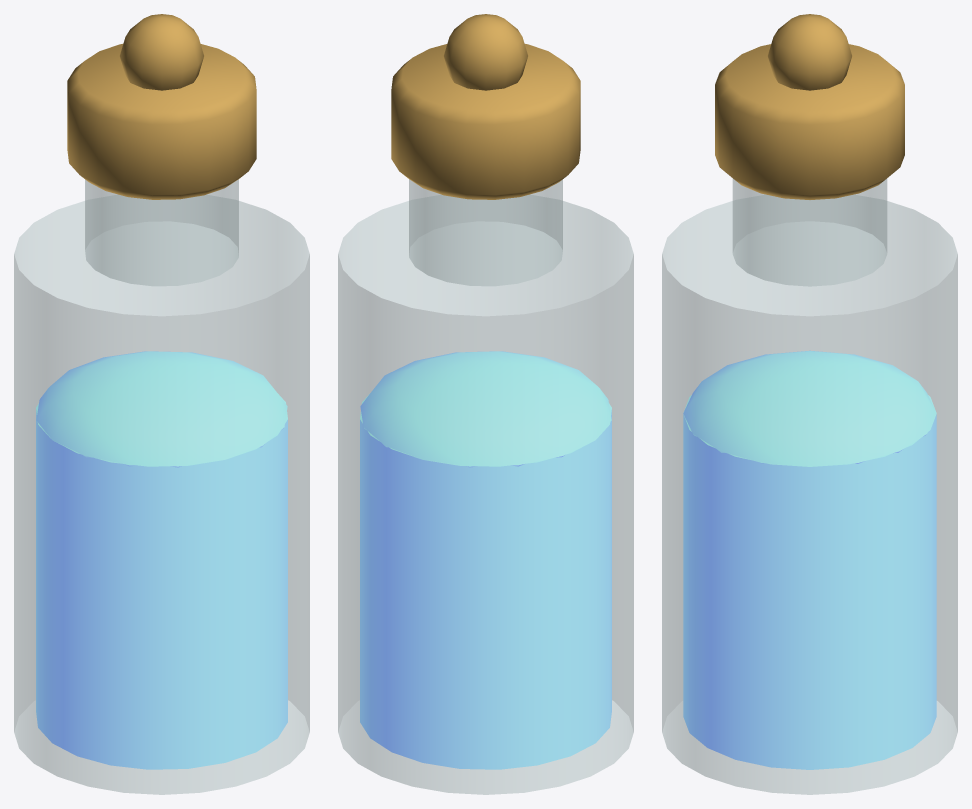
File: res_veil_dust.glb
3 renders of one model, left to right at view 1: azimuth 30°, elevation 25°; view 2: azimuth 150°, elevation 25°; view 3: azimuth 270°, elevation 25°, orthographic.
Parts seen in each view (by area): view 1: res_veil_dust; view 2: res_veil_dust; view 3: res_veil_dust.
Boxes of the visible parts, x1,y1,x2,y2 form: res_veil_dust: (14, 14, 309, 794); res_veil_dust: (338, 14, 633, 794); res_veil_dust: (662, 14, 957, 794).
Size of the model in its own units: 0.084 by 0.224 by 0.084.
